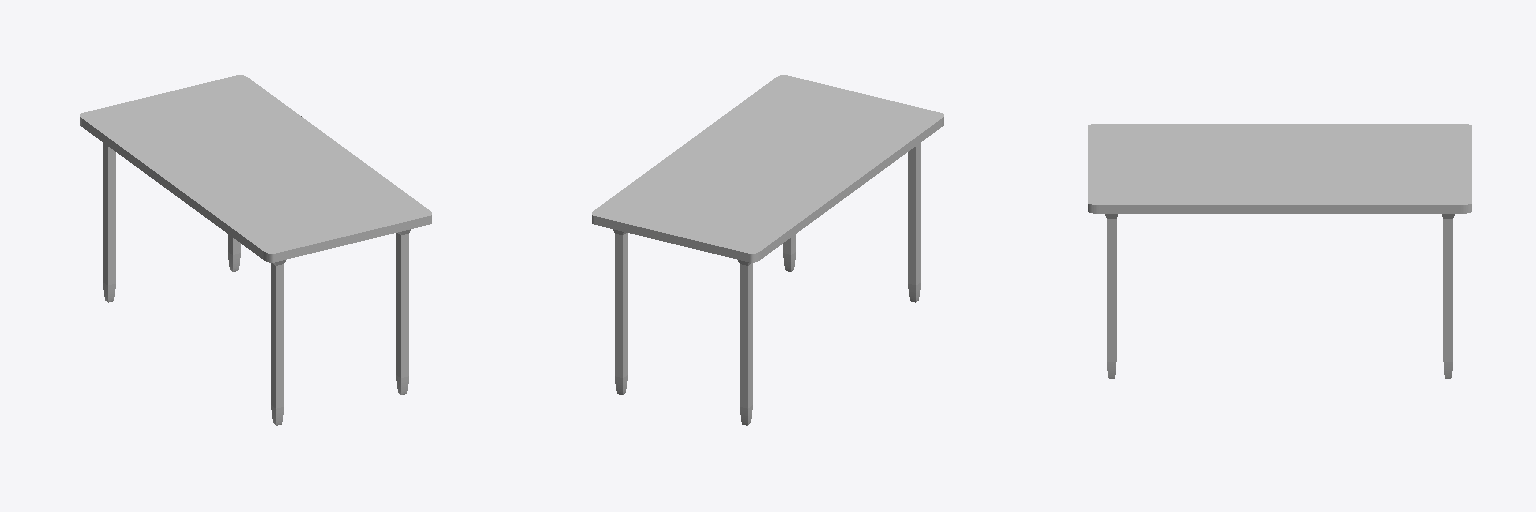
Rendered from Table.obj.
The picture shows the model from 3 angles: view 1: azimuth 30°, elevation 25°; view 2: azimuth 150°, elevation 25°; view 3: azimuth 270°, elevation 25°; orthographic projection.
Visible parts, largest first — view 1: Cube, Cube.005; view 2: Cube, Cube.005; view 3: Cube, Cube.005.
Boxes of the visible parts, x1,y1,x2,y2 form: Cube: [80, 75, 431, 262]; Cube.005: [103, 143, 410, 425]; Cube: [592, 75, 943, 262]; Cube.005: [613, 143, 920, 425]; Cube: [1088, 124, 1471, 213]; Cube.005: [1105, 214, 1454, 378].
Size of the model in its own units: 4 by 4.2 by 8.